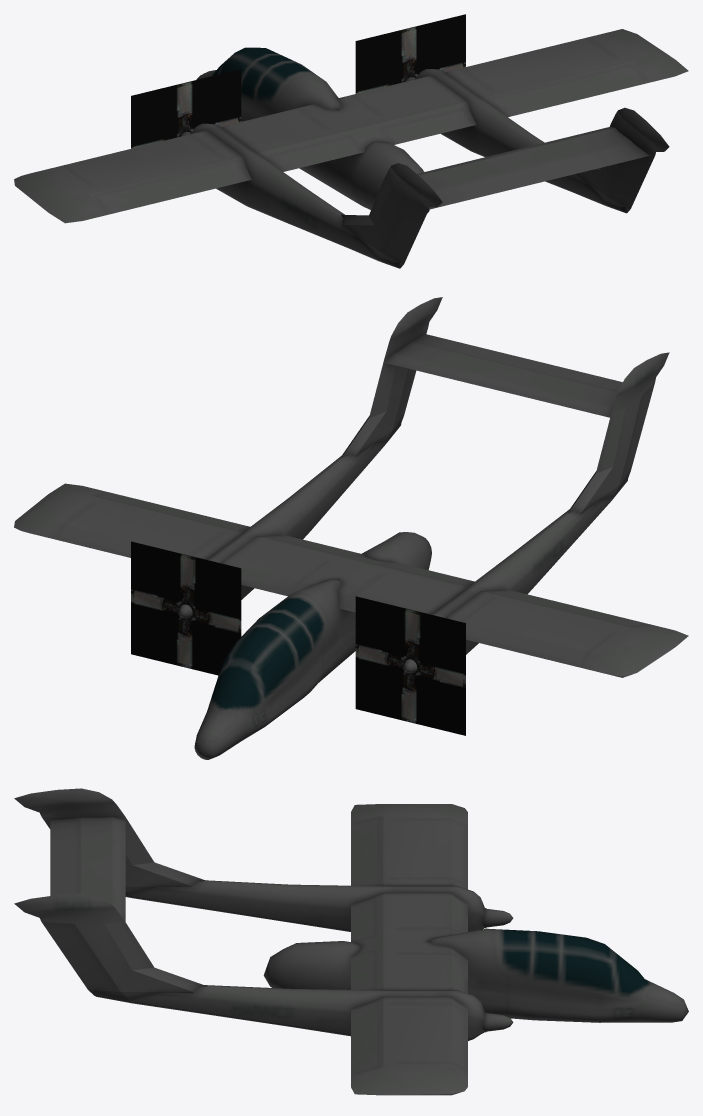
The picture shows the model from 3 angles, top to bottom: view 1: azimuth 30°, elevation 25°; view 2: azimuth 150°, elevation 25°; view 3: azimuth 270°, elevation 25°; orthographic projection. The views are drawn at different scales.
Visible parts, largest first — view 1: hull, Plane001; view 2: hull, Plane001; view 3: hull.
Boxes of the visible parts, left/top/right/bottom form: hull: left=14, top=29, right=688, bottom=268; Plane001: left=131, top=14, right=465, bottom=148; hull: left=14, top=297, right=688, bottom=759; Plane001: left=131, top=541, right=465, bottom=735; hull: left=14, top=788, right=688, bottom=1095.
Bounding box in the file's own units: 13.12 × 3.84 × 12.86.
2 materials, 2 textured.
